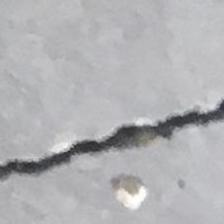Crack: (4, 90, 224, 182)
